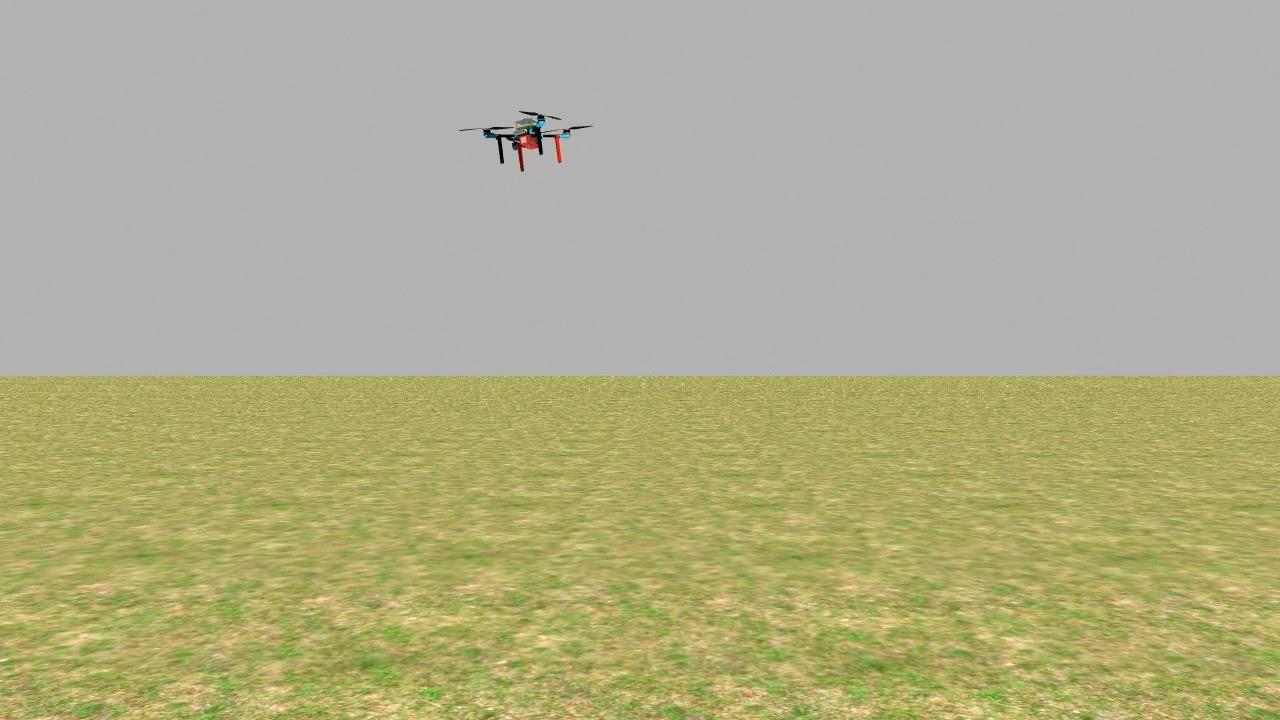UAV: (454, 94, 592, 180)
